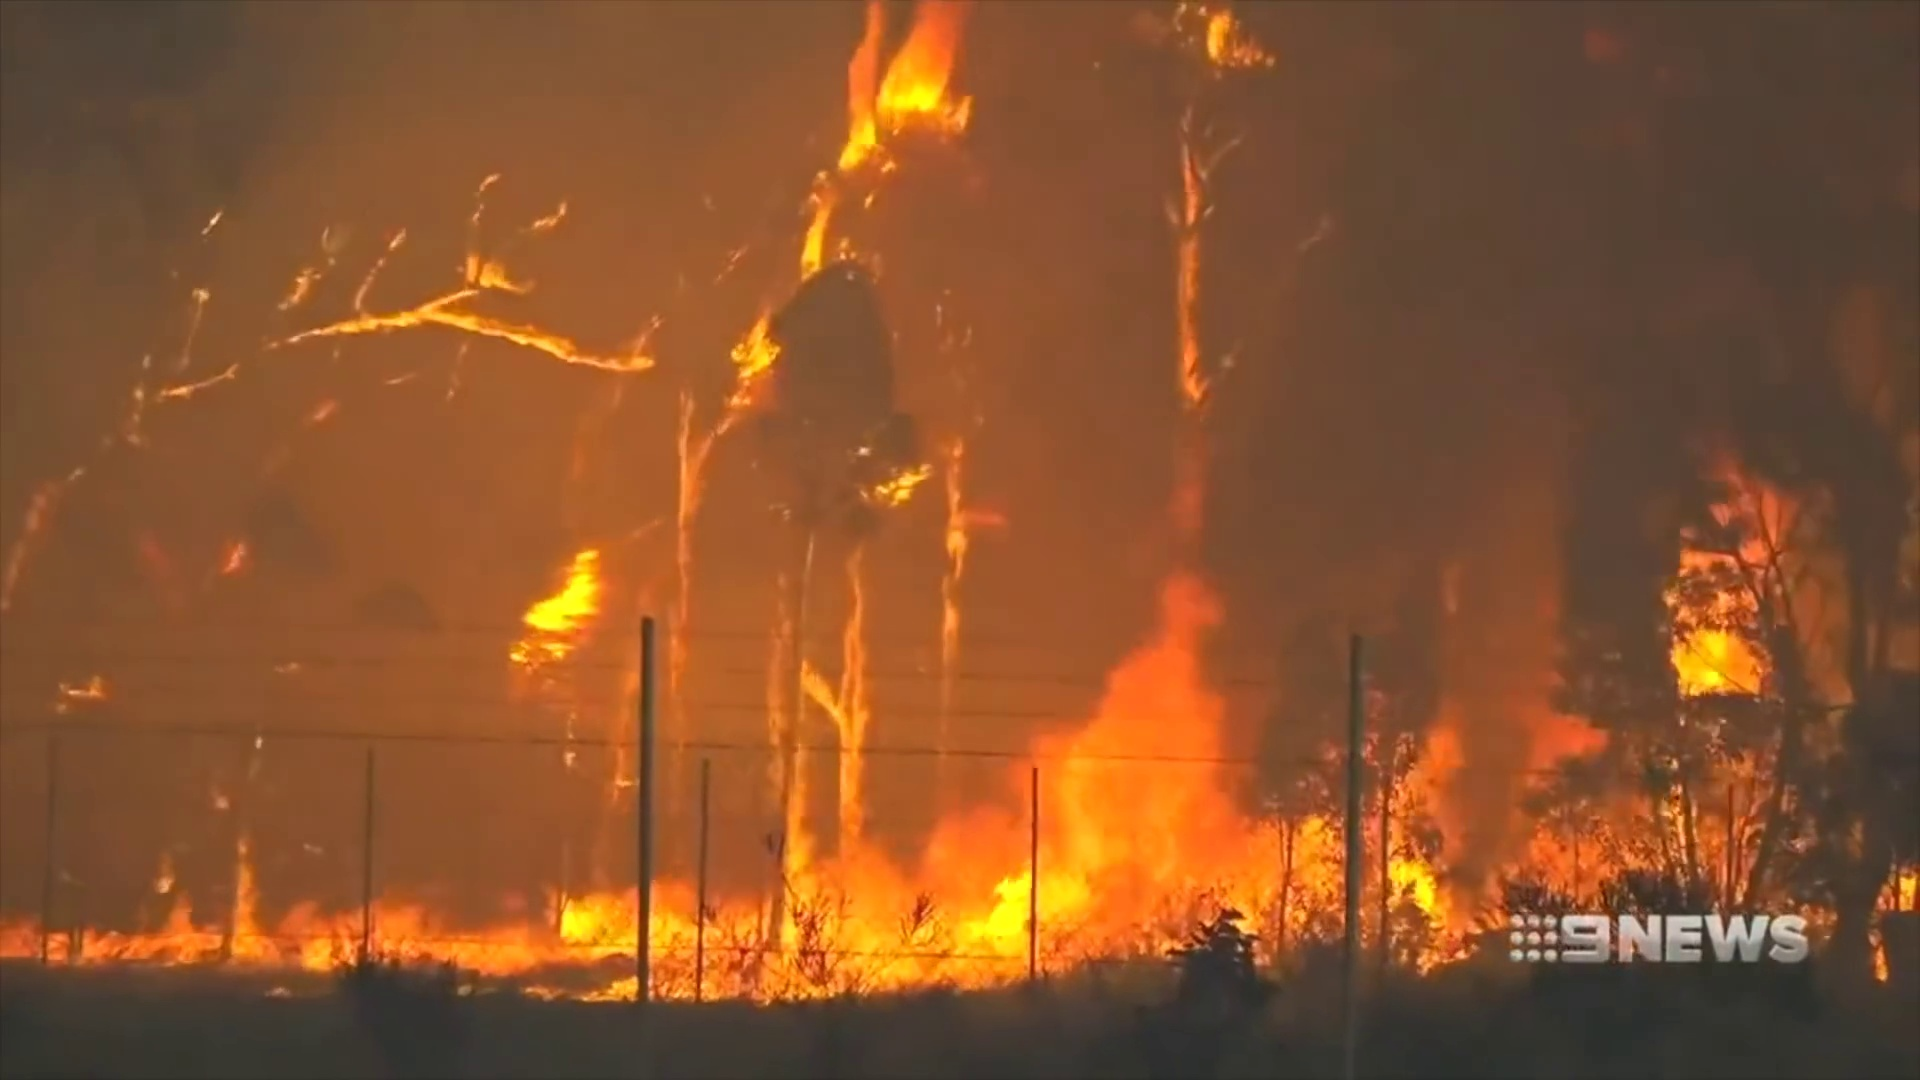fire: (555, 868, 1075, 1007), (320, 310, 666, 378), (844, 12, 973, 158), (4, 920, 344, 972), (524, 560, 607, 661), (1681, 624, 1760, 688), (1196, 11, 1237, 65), (735, 327, 775, 369)
